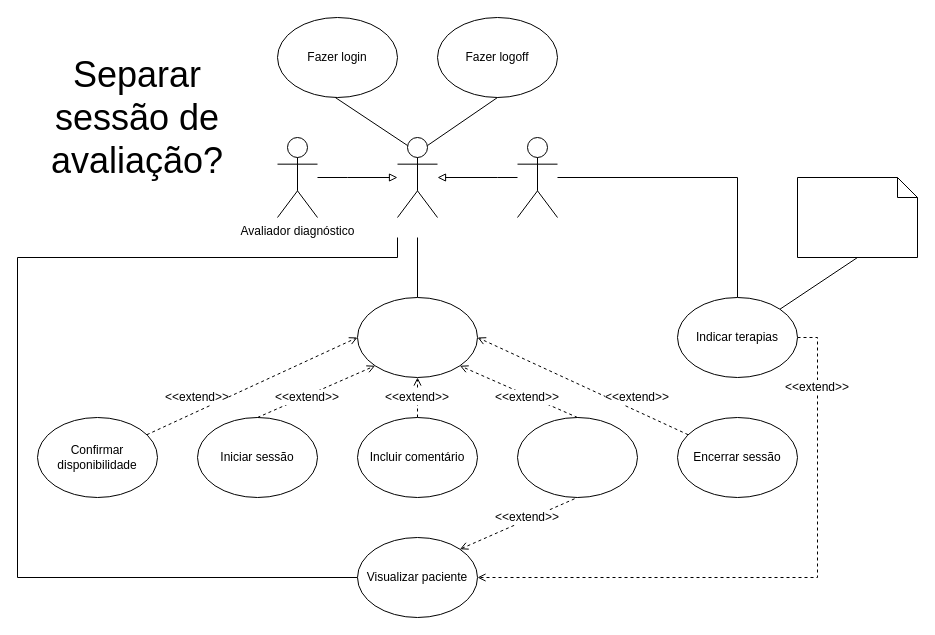
Image size: 935x635. Some labels were removed from this diagram. The centre of each missing label's shape, as x and y in pixels:
"Anexar documento" goes at [577,457].
"Avaliador" goes at [417,177].
"Avaliador terapêutico" goes at [537,177].
"Só o avaliador terapêutico tem acesso a essa funcionalidade" goes at [857,217].
"Visualizar sessão" goes at [417,337].
